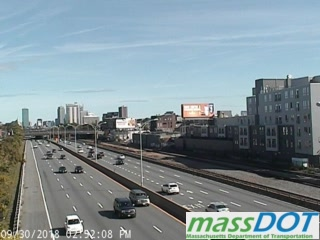car: (114, 197, 136, 219), (128, 190, 151, 207), (64, 215, 84, 233), (204, 201, 230, 212), (161, 183, 180, 194), (73, 165, 83, 174), (113, 159, 124, 166), (58, 166, 66, 174), (116, 154, 126, 160), (45, 153, 53, 160), (58, 154, 67, 160), (50, 148, 58, 154), (88, 152, 94, 160), (94, 153, 102, 159), (77, 148, 84, 154), (97, 151, 105, 156), (31, 143, 38, 148), (57, 146, 64, 151), (76, 144, 83, 149), (46, 150, 52, 155), (86, 145, 92, 149), (45, 143, 50, 146)
